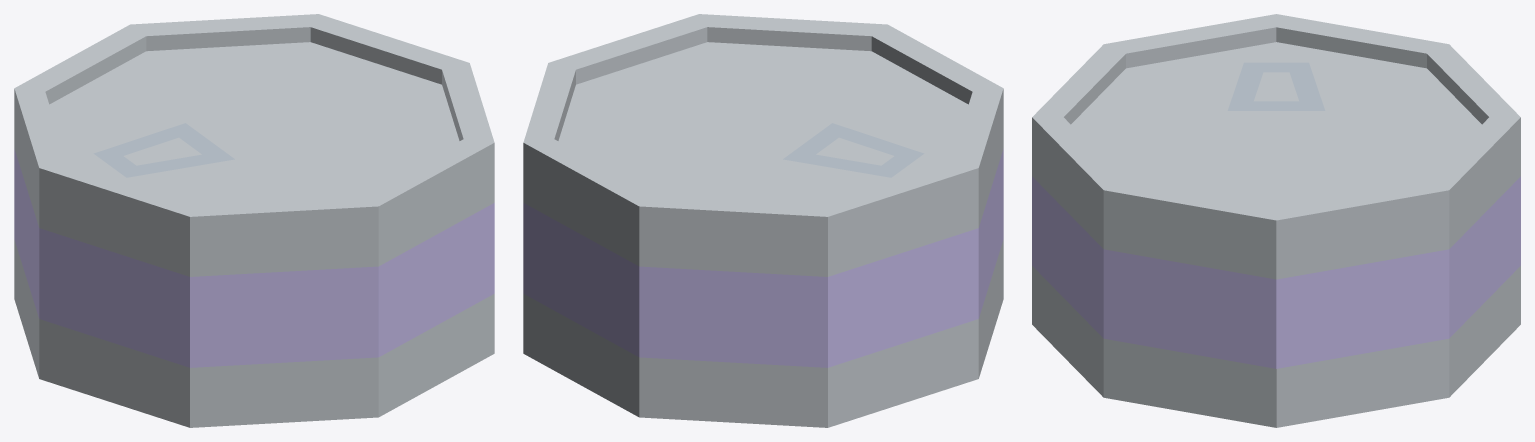
Rendered from canSmall.glb.
3 views of the same model, side by side, from view 1: azimuth 30°, elevation 25°; view 2: azimuth 150°, elevation 25°; view 3: azimuth 270°, elevation 25° (orthographic).
Parts seen in each view (by area): view 1: canSmall; view 2: canSmall; view 3: canSmall.
Part boxes in pixels (left/top/right/bottom): canSmall: left=14, top=14, right=494, bottom=427; canSmall: left=523, top=14, right=1003, bottom=427; canSmall: left=1032, top=14, right=1520, bottom=427.
Size of the model in its own units: 0.3 by 0.1405 by 0.3.
